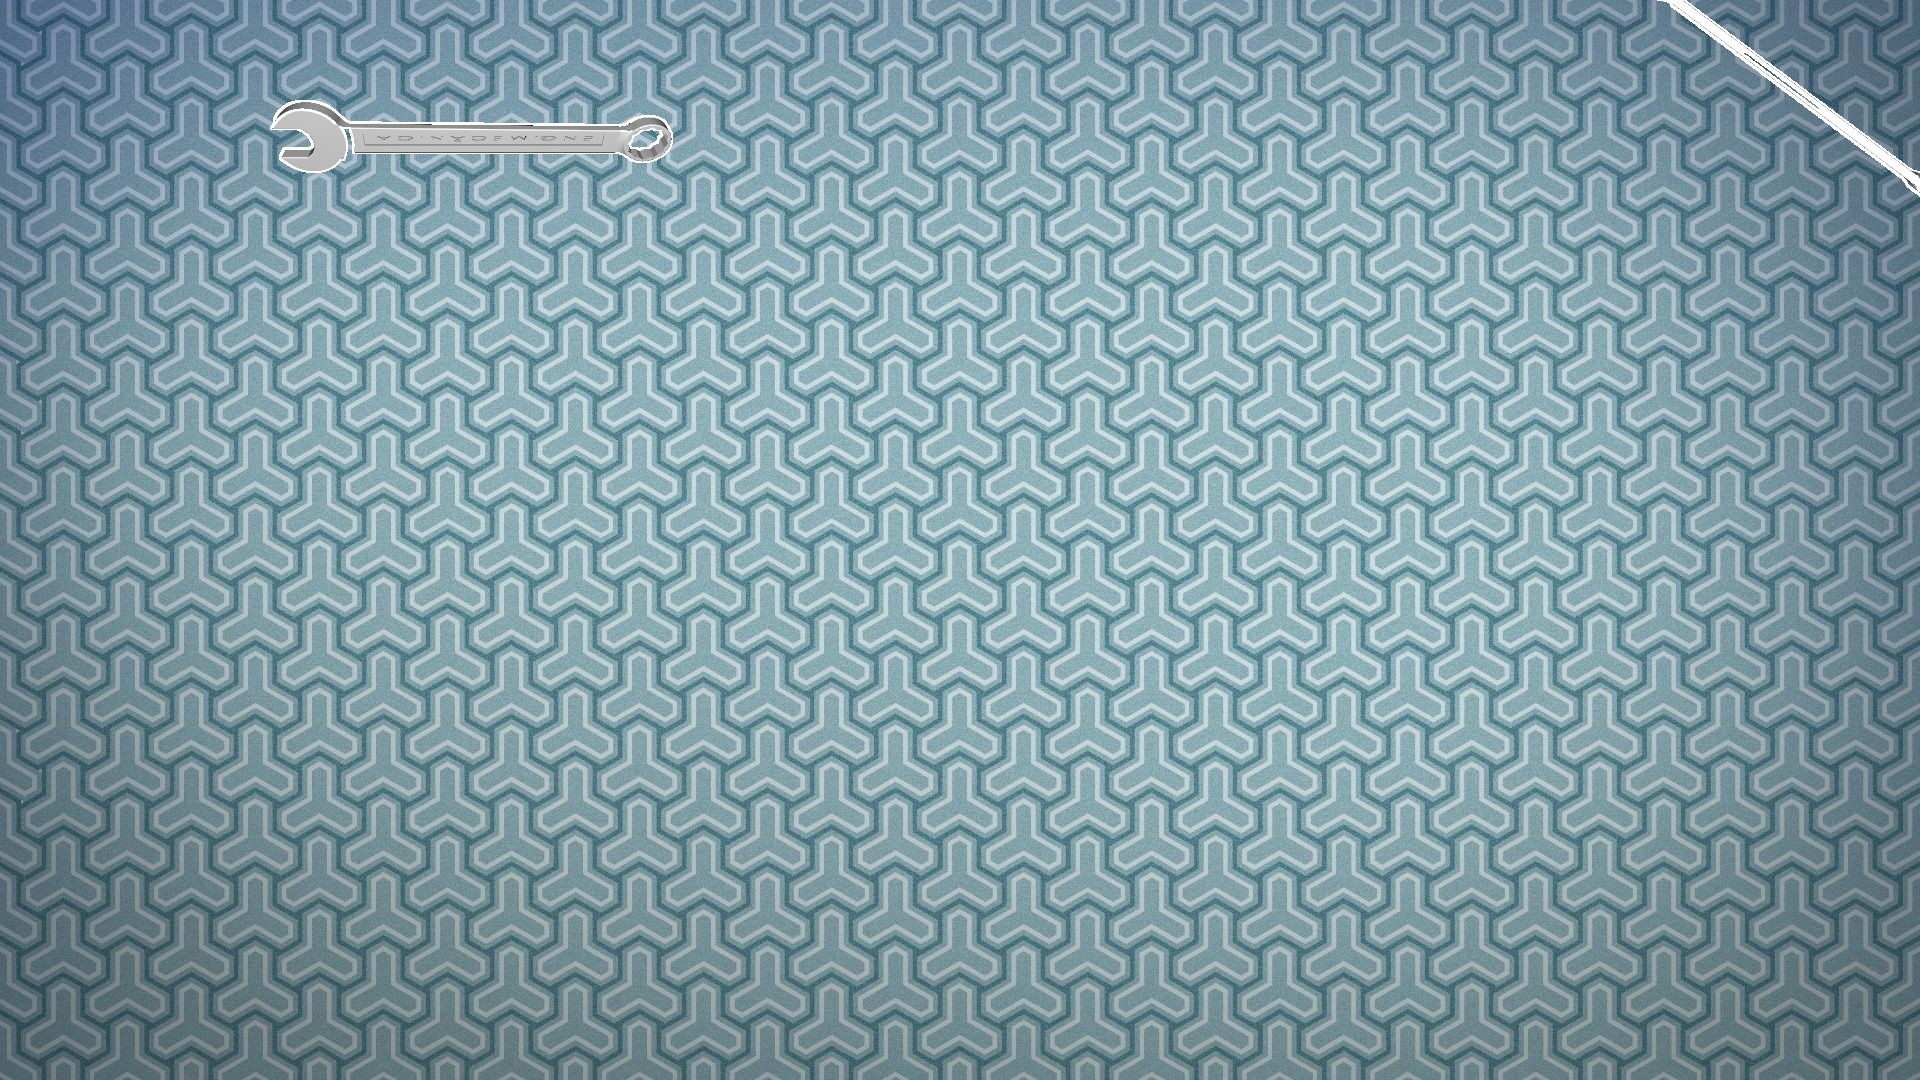Mixed Key: (1658, 0, 1919, 196), (270, 100, 673, 171)
